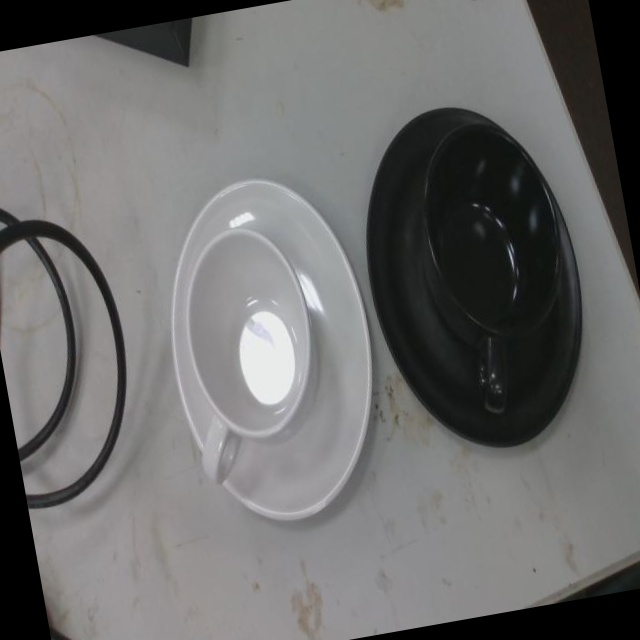black: (368, 98, 581, 454)
white: (169, 170, 374, 528)
